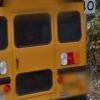Bus: (2, 1, 89, 100)
